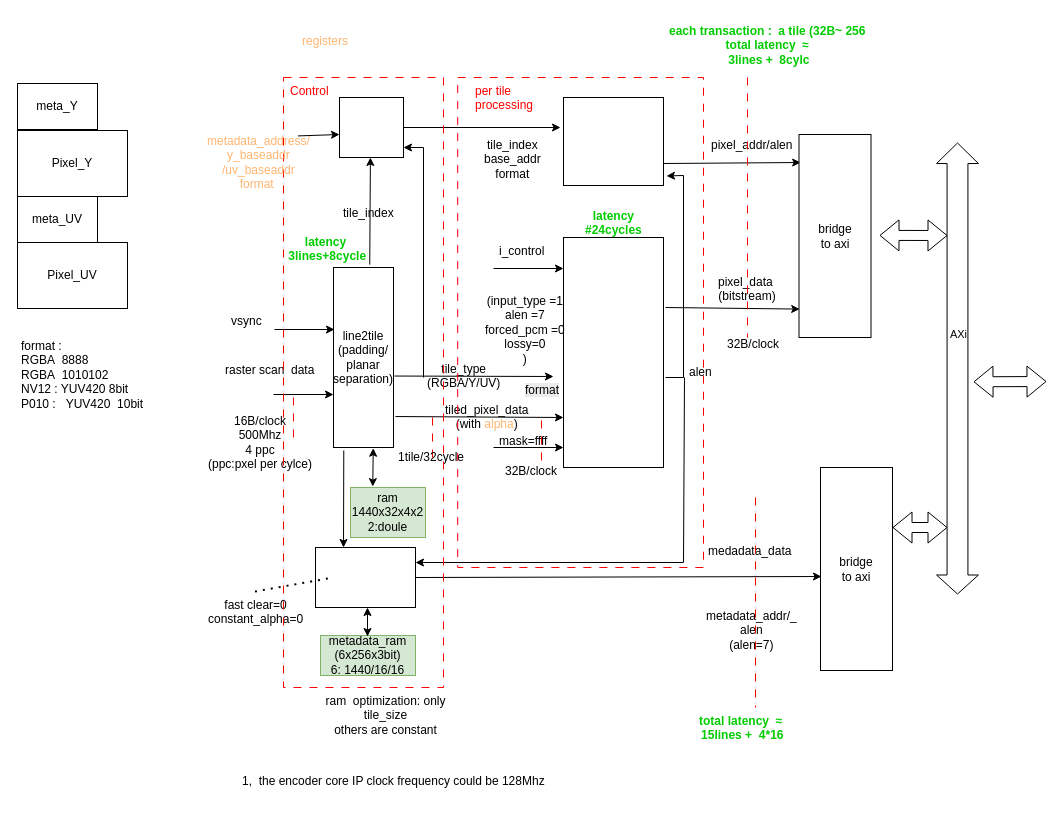
This 1064x824 diagram has some shape labels left out. The shapes that lost their labels are listed below. From the top down, each one's centre as x and y in pixels, then its label:
(371,127): buffer selection
(613,141): tile addr gen (get_tile_addr)
(613,352): UBWC encoder core
(365,577): metadata_ctrl
